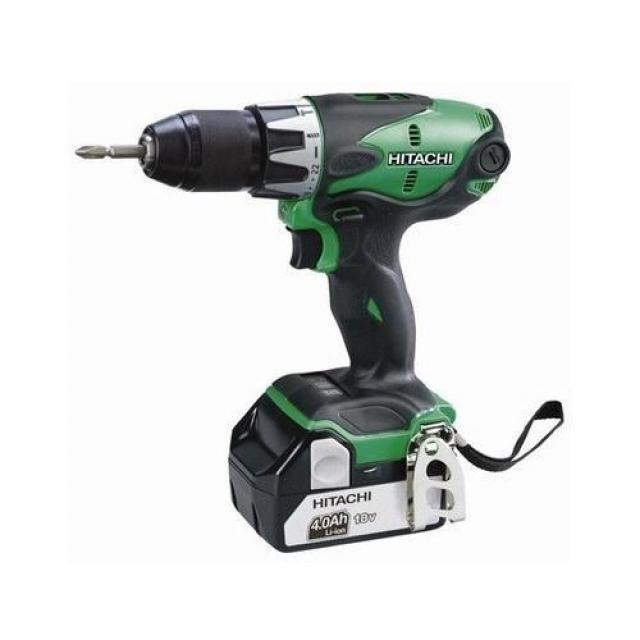drill: (72, 93, 513, 555)
